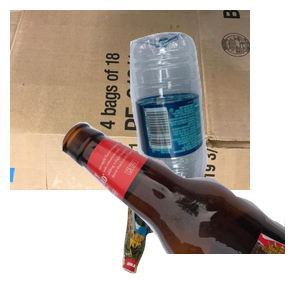cardboard: (10, 10, 250, 190)
glass: (60, 120, 300, 300)
plastic: (127, 29, 300, 209)
trash: (120, 131, 290, 300)
